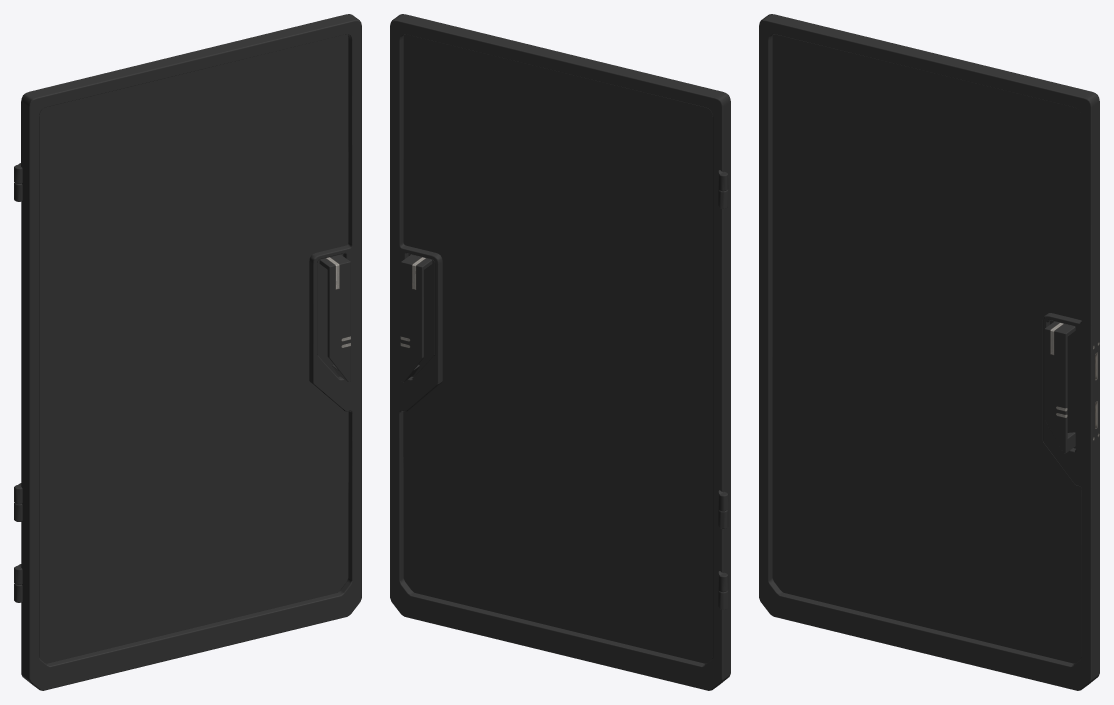
The model's file is SM_Door_Glass_Single_01.FBX.
3 renders of one model, left to right at view 1: azimuth 30°, elevation 25°; view 2: azimuth 150°, elevation 25°; view 3: azimuth 330°, elevation 25°, orthographic.
Visible parts, largest first — view 1: SM_Door_Glass_Single_01_LOD0; view 2: SM_Door_Glass_Single_01_LOD0; view 3: SM_Door_Glass_Single_01_LOD0.
Boxes of the visible parts, bbox=[...] form: SM_Door_Glass_Single_01_LOD0: bbox=[14, 14, 361, 690]; SM_Door_Glass_Single_01_LOD0: bbox=[390, 14, 730, 690]; SM_Door_Glass_Single_01_LOD0: bbox=[759, 14, 1099, 690].
Size of what is drawn, in the model's own units: 121 by 14.63 by 203.
